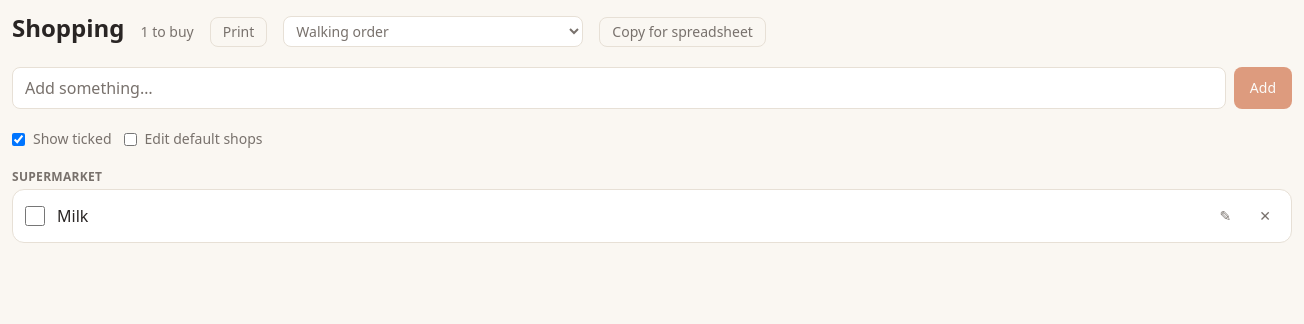
it: ShoppingListPage copy for spreadsheet › falls back to an error message if the clipboard write is refused
Click the button "Copy for spreadsheet".
click(683, 32)  # box [599,17,766,47]
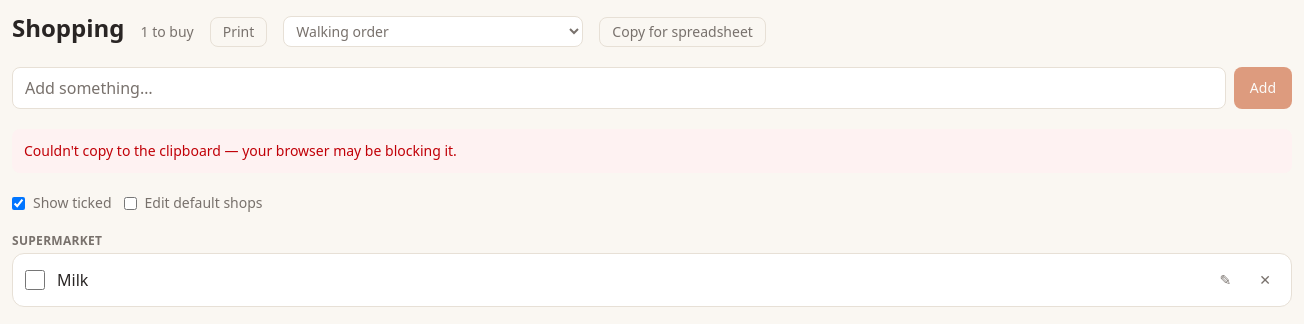
Check: the text "Couldn't copy to the clipboard" is shown, box [24,141,457,160]
